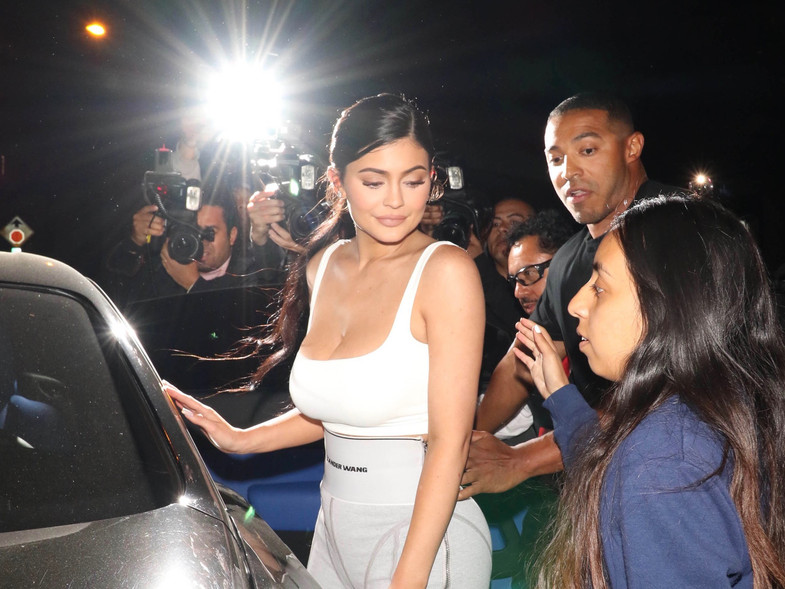person: (268, 104, 497, 375), (520, 117, 697, 252)
